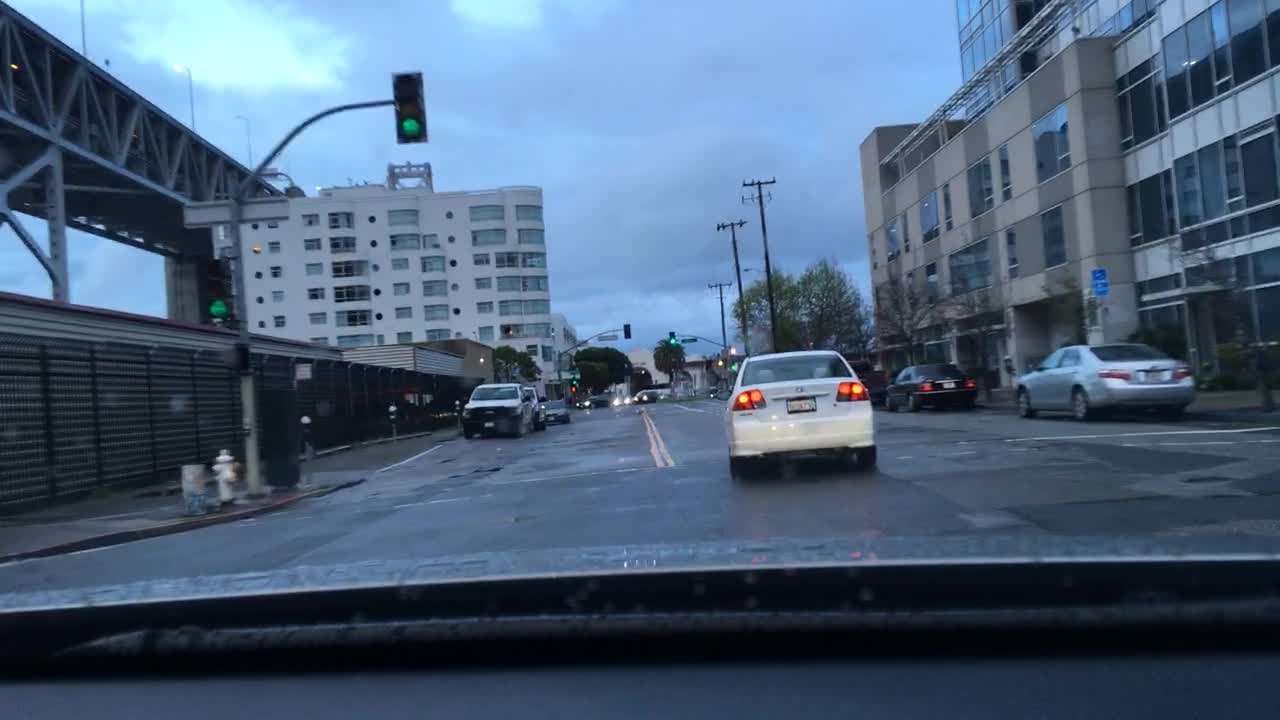car: (725, 347, 878, 482), (1011, 341, 1197, 420), (880, 359, 980, 413), (457, 383, 532, 437), (514, 383, 547, 425), (540, 396, 571, 425), (570, 392, 610, 410), (628, 386, 661, 401), (610, 392, 633, 407)
traffic light: (391, 65, 424, 140), (203, 260, 225, 320), (667, 326, 676, 350), (621, 319, 630, 338), (730, 360, 740, 372)
traffic sign: (182, 191, 293, 229), (1092, 269, 1107, 293), (595, 332, 619, 344), (677, 336, 697, 344)
truck: (847, 356, 878, 398)
